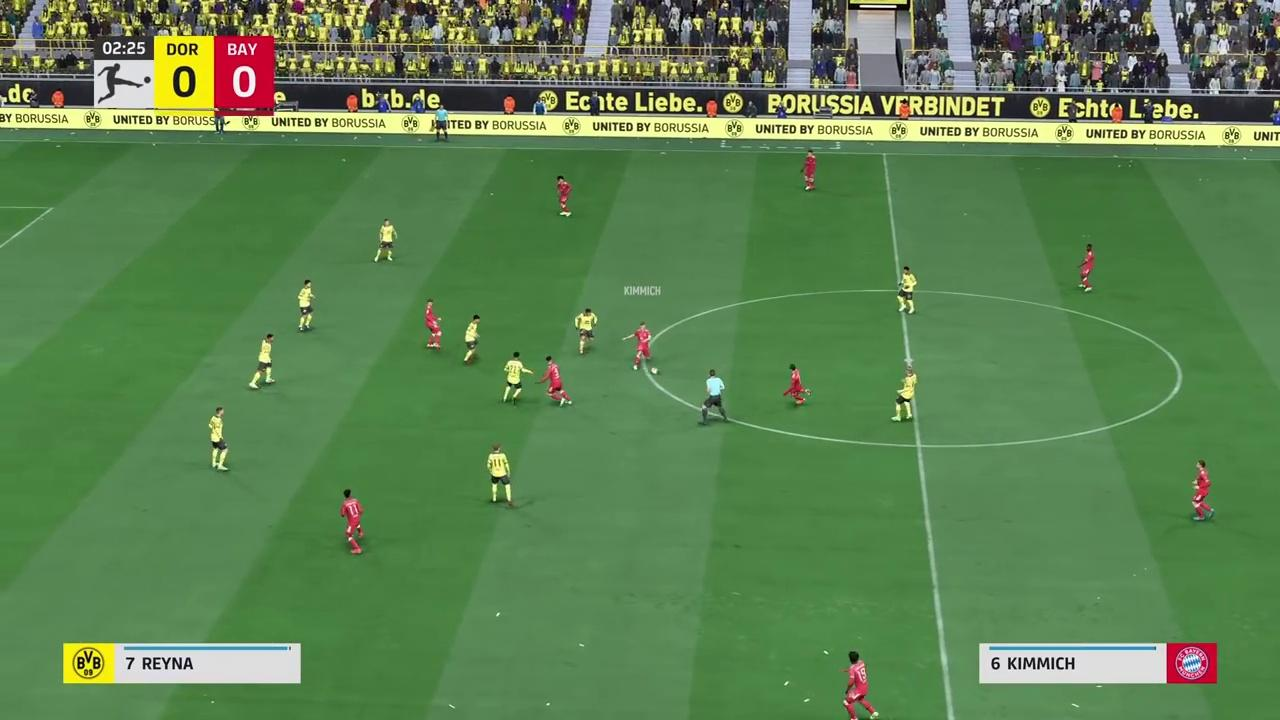scoreboard: (157, 39, 276, 109)
timestamp: (99, 37, 157, 58)
